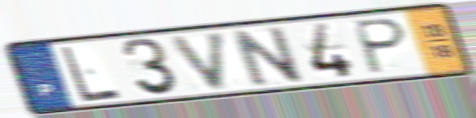3: (120, 37, 182, 98)
4: (309, 22, 356, 80)
L: (58, 44, 124, 104)
N: (227, 24, 308, 89)
P: (352, 16, 411, 77)
V: (167, 28, 231, 93)
